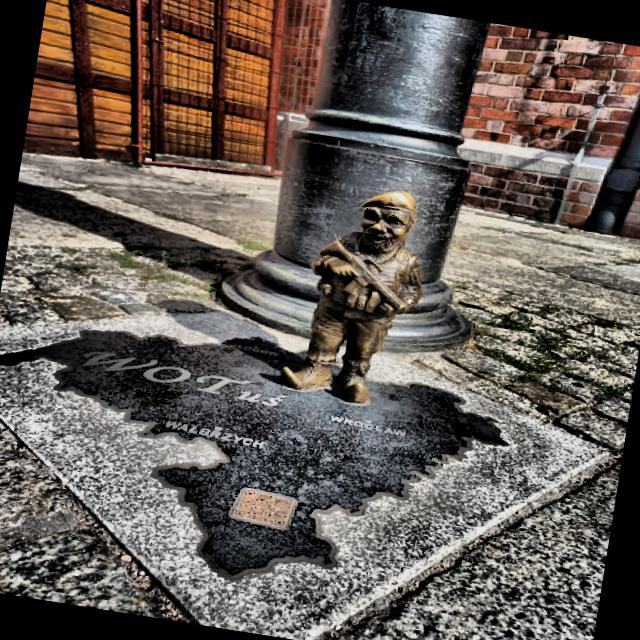WOTus: (282, 192, 422, 405)
